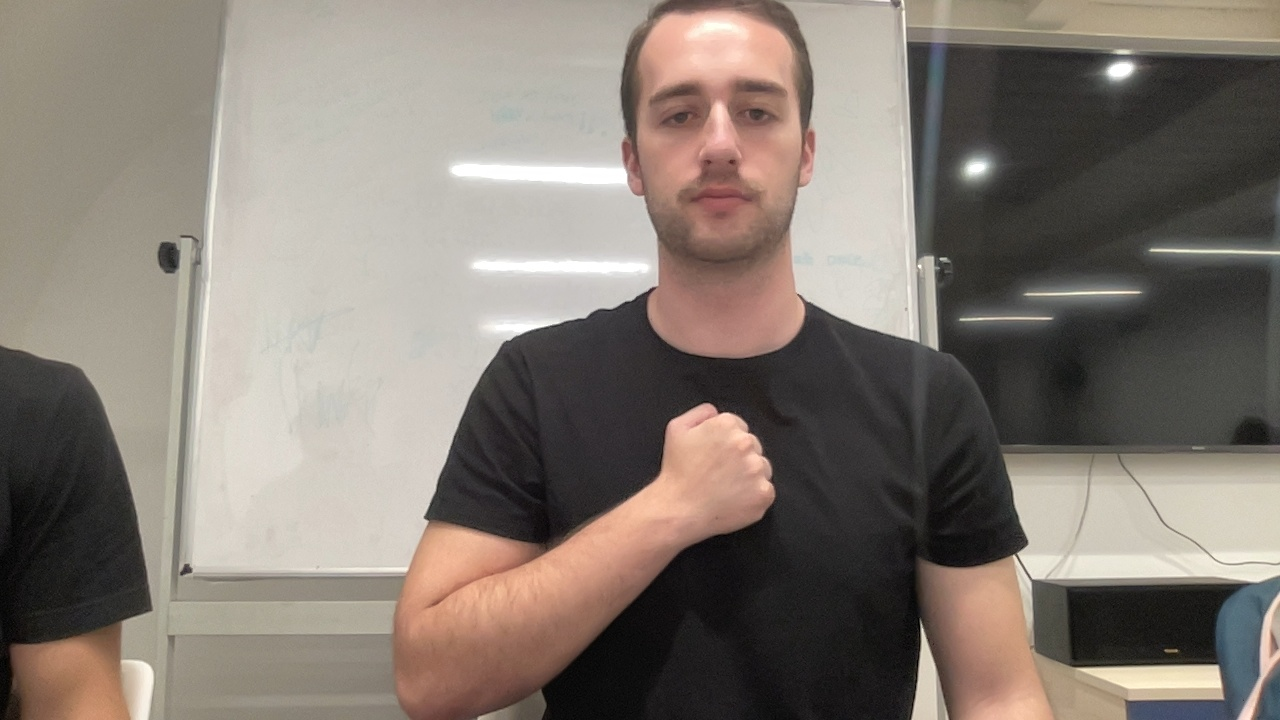Sorry: (389, 401, 779, 720)
